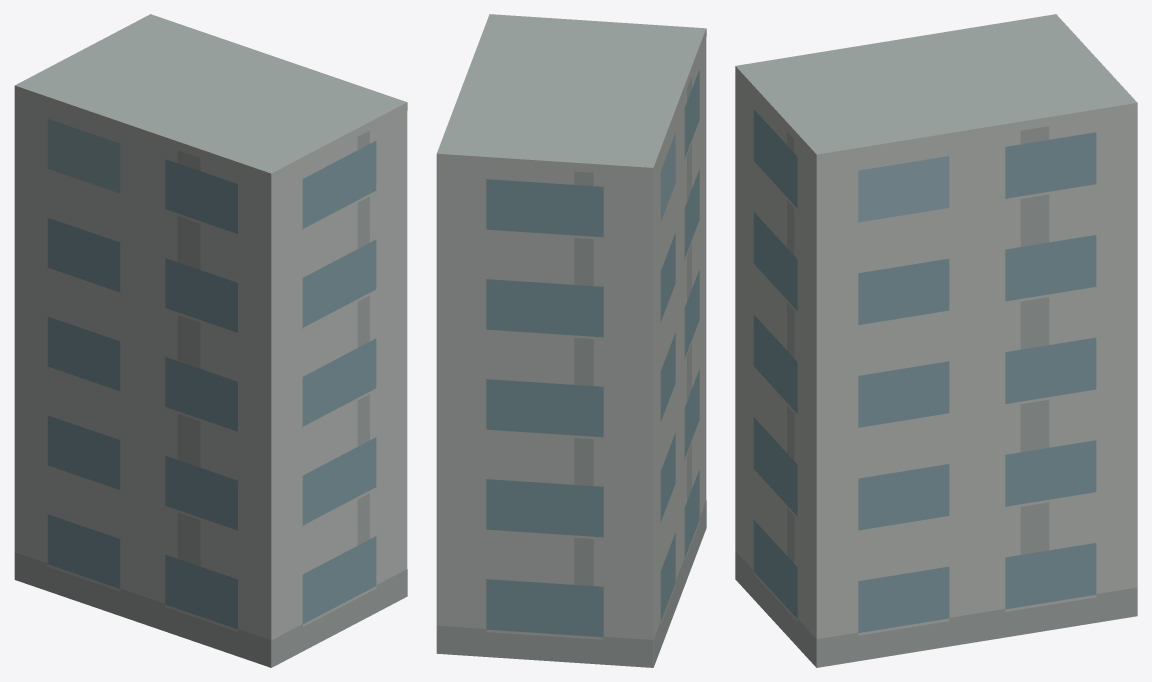
The model's file is survey-upis-32593210.glb.
The picture shows the model from 3 angles, left to right: view 1: azimuth 30°, elevation 25°; view 2: azimuth 150°, elevation 25°; view 3: azimuth 270°, elevation 25°; orthographic projection. The views are drawn at different scales.
Parts seen in each view (by area): view 1: survey-upis-32593210.tmp; view 2: survey-upis-32593210.tmp; view 3: survey-upis-32593210.tmp.
Part boxes in pixels (x1,y1,x2,y2): survey-upis-32593210.tmp: [14, 14, 407, 667]; survey-upis-32593210.tmp: [436, 14, 706, 667]; survey-upis-32593210.tmp: [735, 14, 1137, 667].
Size of the model in its own units: 8.14 by 13.85 by 9.85.
